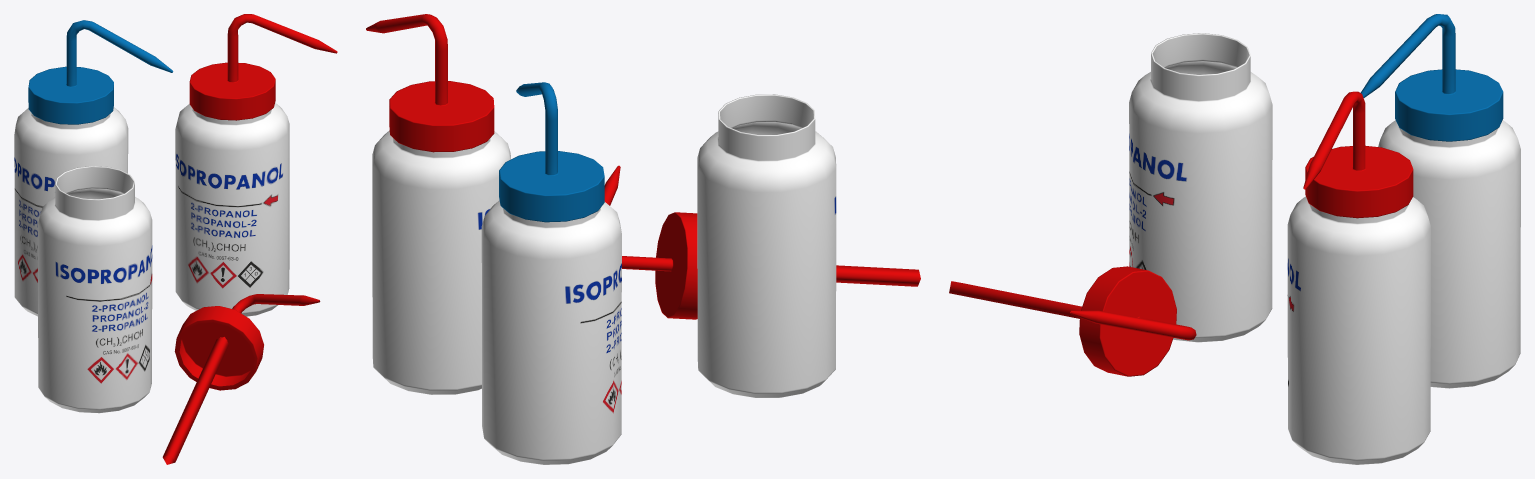
The model's file is Plastic.glb.
3 views of the same model, side by side, from view 1: azimuth 30°, elevation 25°; view 2: azimuth 150°, elevation 25°; view 3: azimuth 270°, elevation 25° (orthographic). The views are drawn at different scales.
Visible parts, largest first — view 1: bottle_propanol_001, bottle_propanol_002, bottle_propanol_003, bottle_propanol_cap_001; view 2: bottle_propanol_003, bottle_propanol_002, bottle_propanol_001, bottle_propanol_cap_001; view 3: bottle_propanol_001, bottle_propanol_002, bottle_propanol_003, bottle_propanol_cap_001.
Boxes of the visible parts, box(x1,y1,x2,y2) form: bottle_propanol_001: box(175, 14, 337, 316); bottle_propanol_002: box(38, 166, 152, 413); bottle_propanol_003: box(14, 20, 173, 316); bottle_propanol_cap_001: box(162, 294, 320, 464); bottle_propanol_003: box(481, 82, 621, 464); bottle_propanol_002: box(697, 94, 836, 397); bottle_propanol_001: box(366, 14, 510, 394); bottle_propanol_cap_001: box(604, 165, 920, 319); bottle_propanol_001: box(1287, 91, 1430, 464); bottle_propanol_002: box(1129, 33, 1272, 342); bottle_propanol_003: box(1360, 14, 1520, 388); bottle_propanol_cap_001: box(949, 266, 1196, 376).
Bounding box in the file's own units: 0.1624 × 0.1309 × 0.1928.
3 materials, 1 textured.
